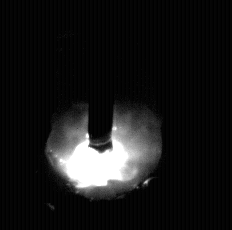arame: (88, 0, 114, 152)
poca: (44, 0, 160, 230)
